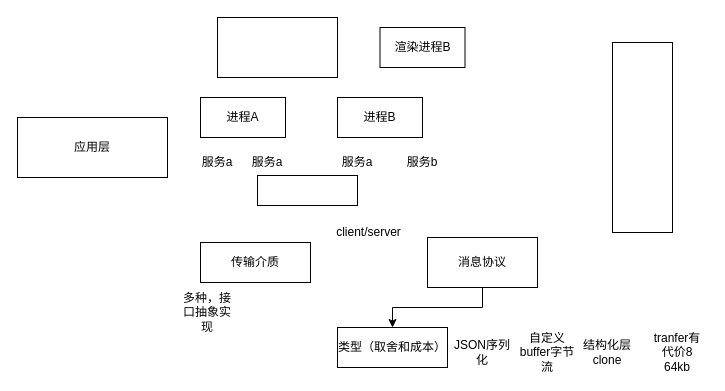
The diagram is 725 pixels wide and 391 high, and some of its shapes have lost their labels. The shapes that lost their labels are listed below. From the top down, each one's centre as x and y in pixels, then its label:
At pixel 277 47: "主进程".
At pixel 642 137: "端口+握手+消息".
At pixel 307 190: "IConnection".
